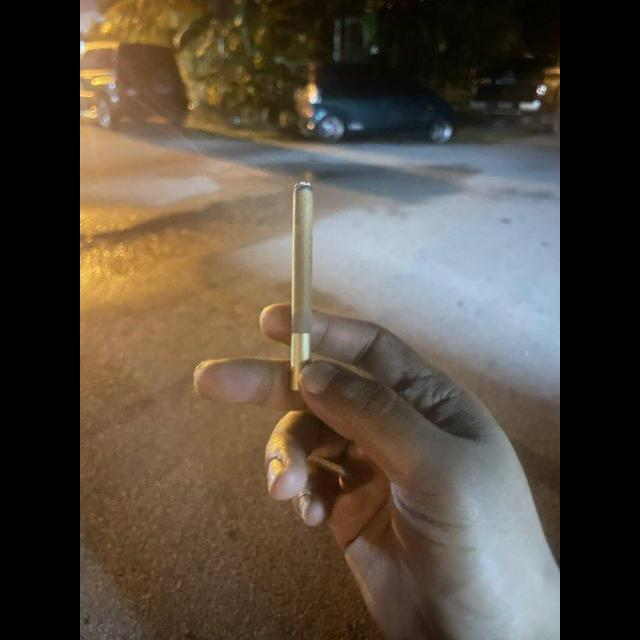rokok: (288, 174, 316, 396)
